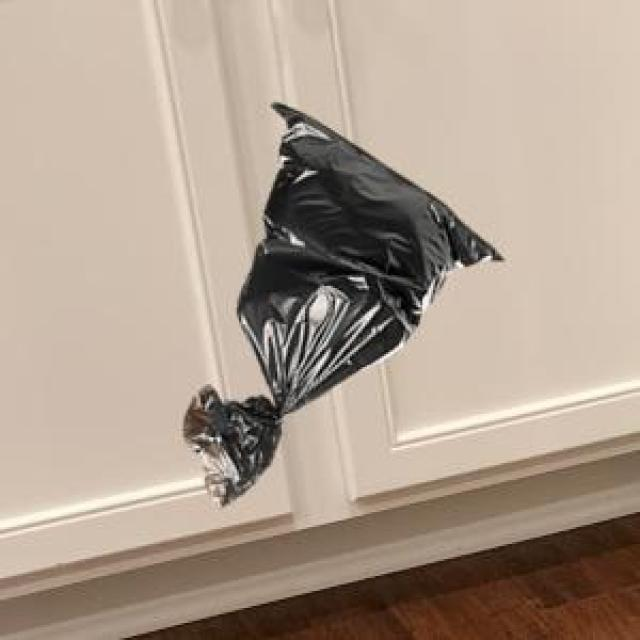Vinyl: (185, 102, 502, 503)
